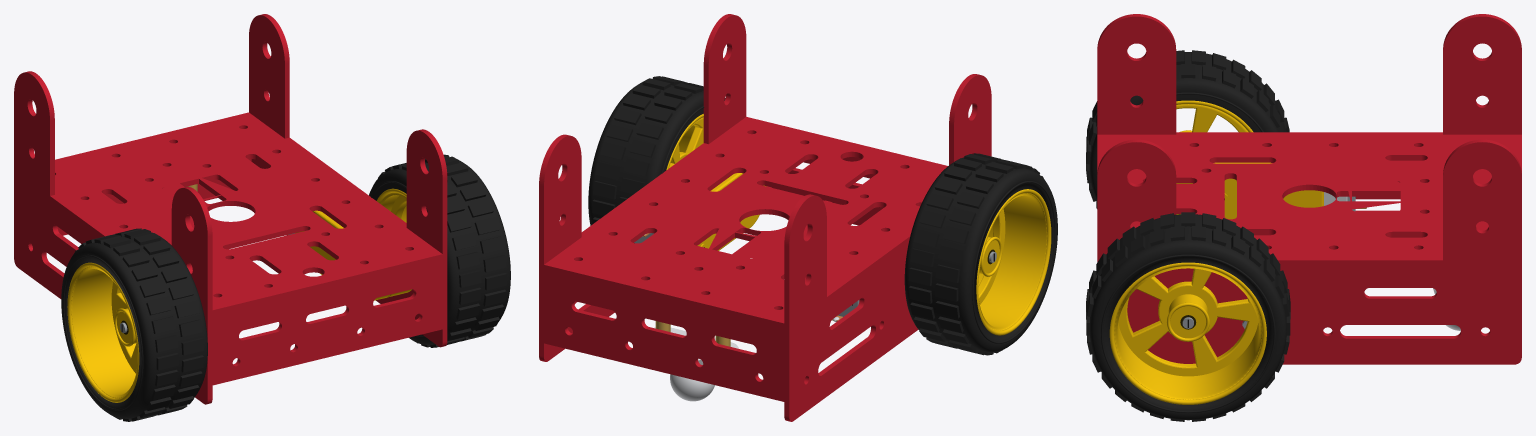
File: robot-chassis.glb
3 views of the same model, side by side, from view 1: azimuth 30°, elevation 25°; view 2: azimuth 150°, elevation 25°; view 3: azimuth 270°, elevation 25° (orthographic). The views are drawn at different scales.
Size of the model in its own units: 0.1532 by 0.0912 by 0.1437.
